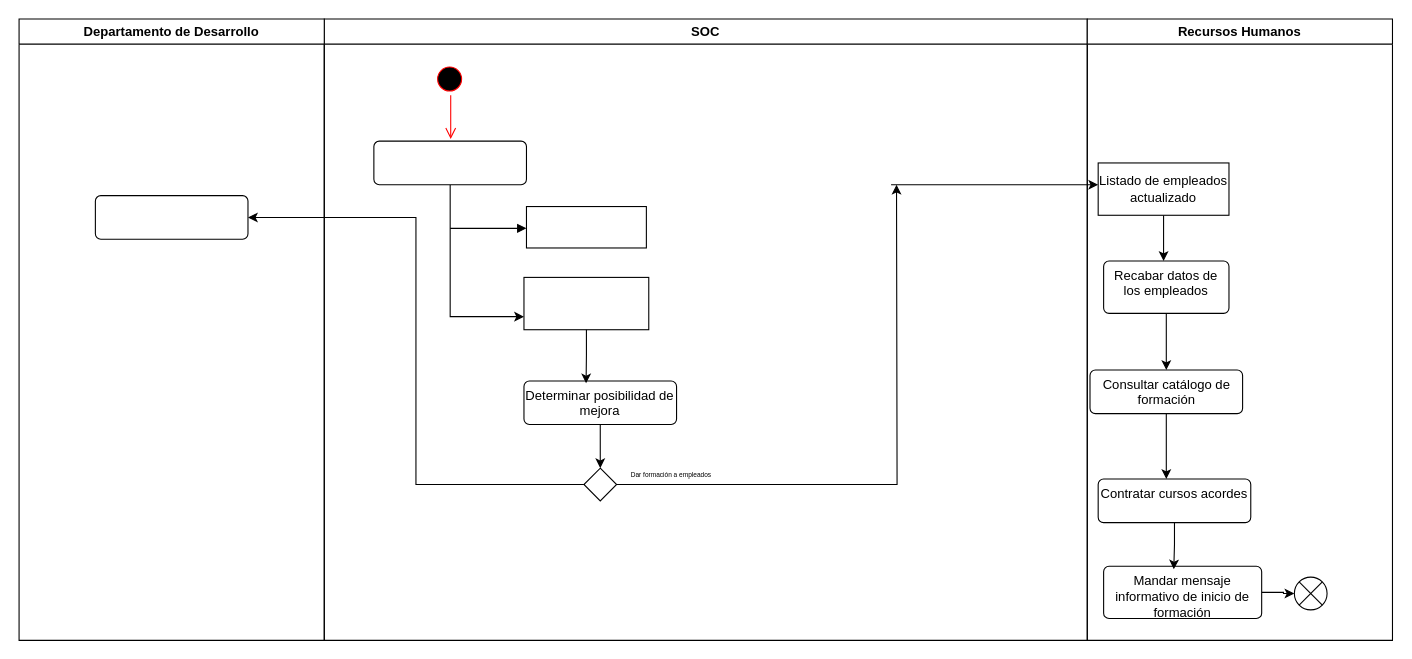
Image size: 1412x659. Some labels were removed from this diagram. Here are the shapes that lost their labels. From the top down, the centre of each, then its label:
At pixel 449 162: "Evaluar incidencias recibidas".
At pixel 171 217: "análisis de automatización".
At pixel 585 226: "Listado de empleados".
At pixel 586 303: "Listado de incidencias".
